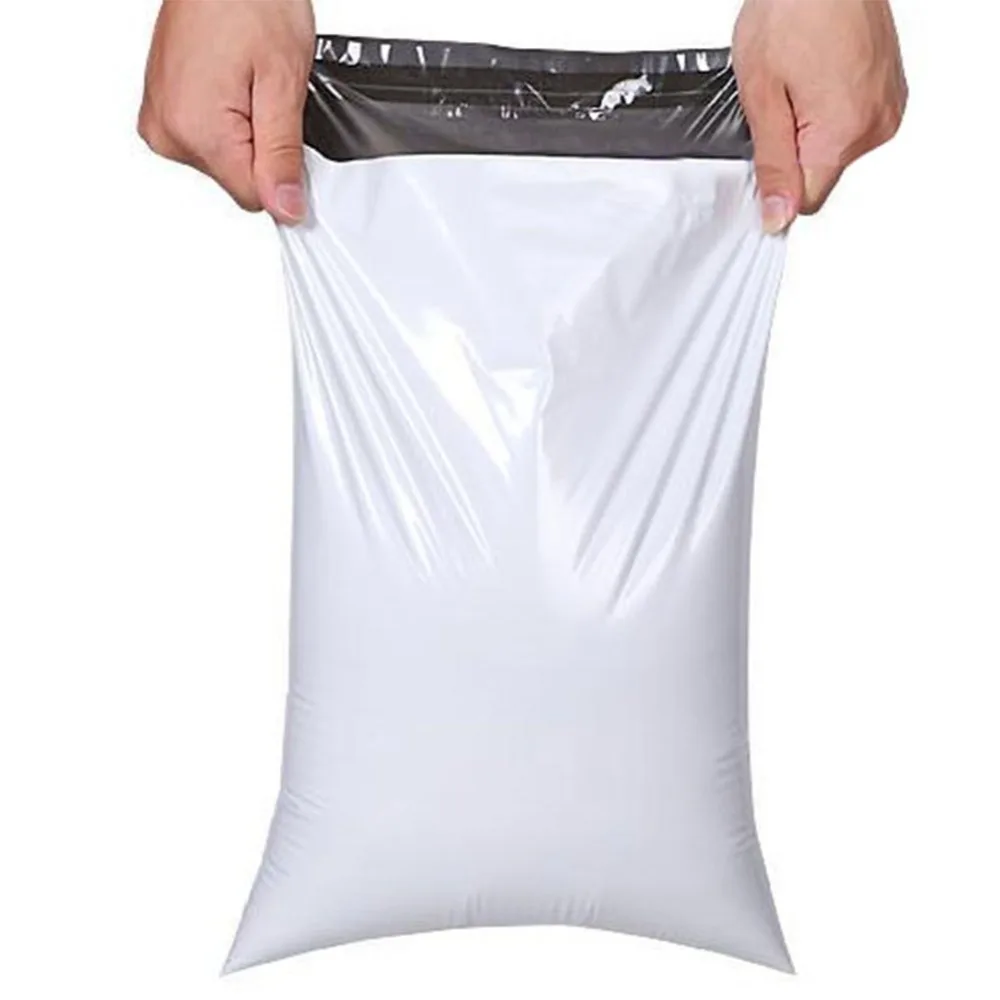Parcel: (226, 36, 788, 970)
